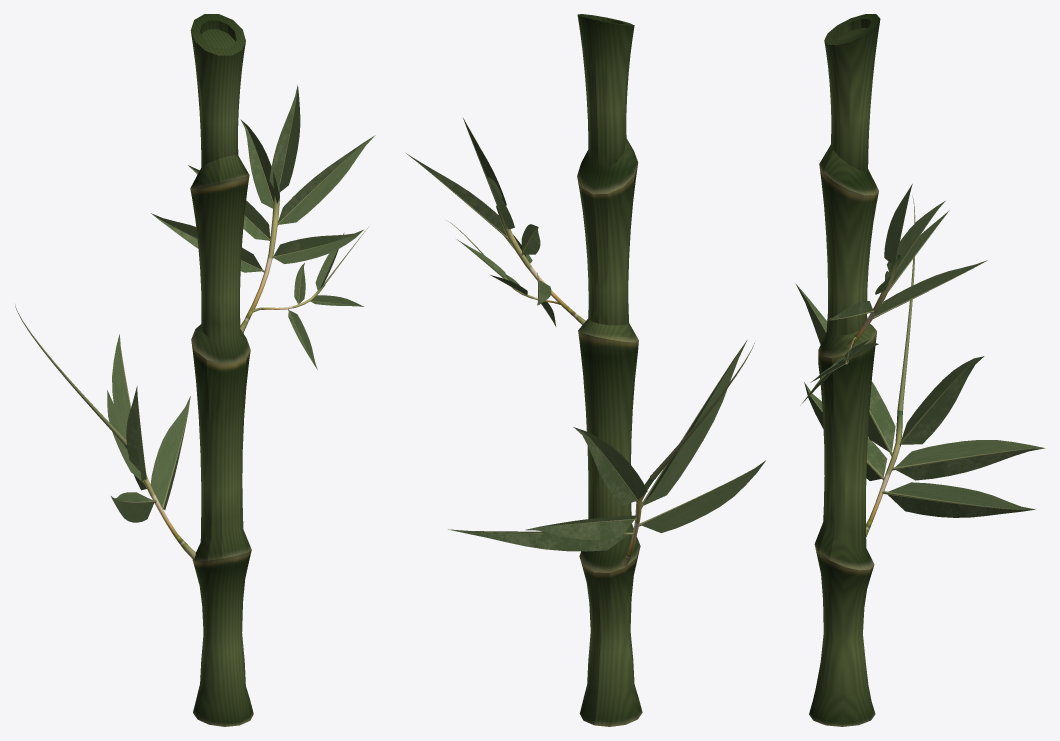
File: Bambus 5.fbx
3 views of the same model, side by side, from view 1: azimuth 30°, elevation 25°; view 2: azimuth 150°, elevation 25°; view 3: azimuth 270°, elevation 25° (orthographic). The views are drawn at different scales.
Visible parts, largest first — view 1: Cylinder.034, BambusSmallBranch3.014; view 2: Cylinder.034, BambusSmallBranch3.014; view 3: Cylinder.034, BambusSmallBranch3.014.
Part boxes in pixels (x1,y1,x2,y2): Cylinder.034: (190, 14, 253, 726); BambusSmallBranch3.014: (15, 85, 375, 559); Cylinder.034: (577, 14, 642, 726); BambusSmallBranch3.014: (406, 118, 765, 566); Cylinder.034: (809, 14, 880, 726); BambusSmallBranch3.014: (795, 184, 1045, 537).
Size of the model in its own units: 0.9175 by 1.71 by 0.5591.
Materials: 5 (4 with a texture image).
